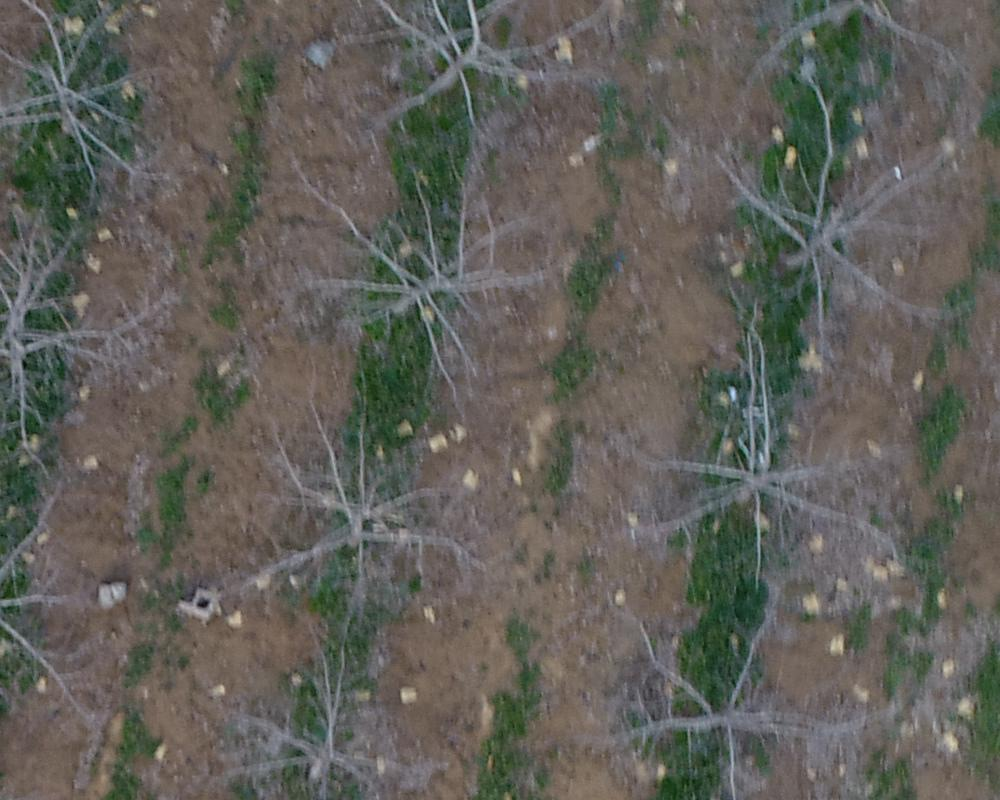apple: (611, 321, 930, 585), (207, 385, 514, 616), (262, 157, 568, 378), (680, 110, 973, 337), (595, 578, 862, 790), (307, 10, 657, 150), (10, 194, 196, 446), (182, 644, 470, 790), (10, 10, 202, 178), (10, 487, 134, 737)
